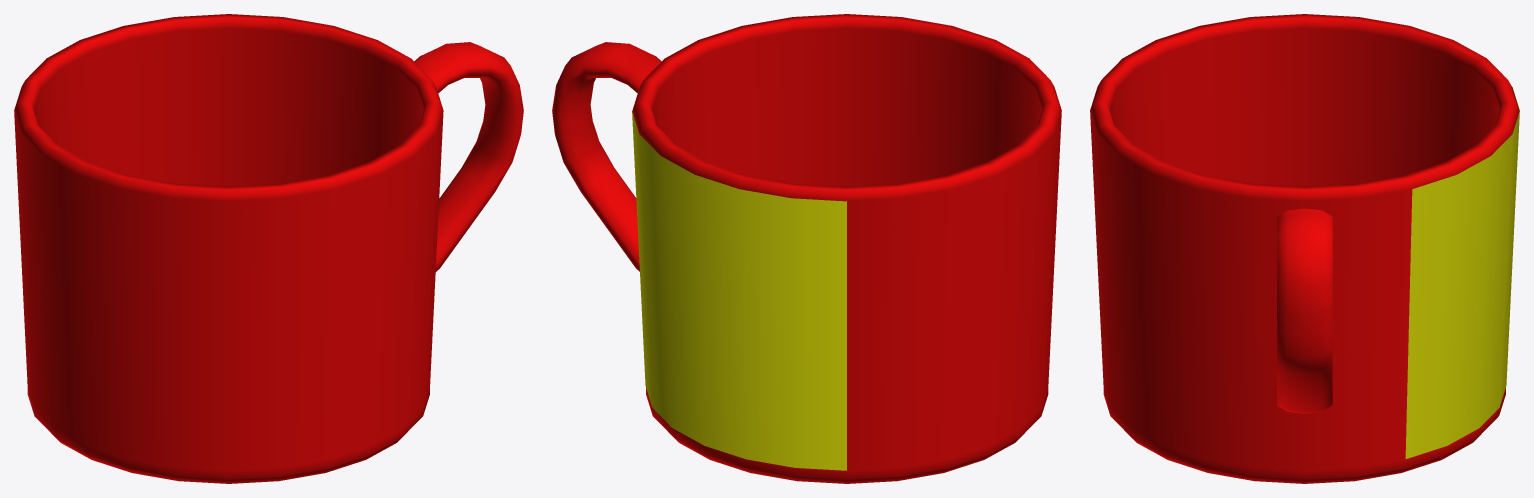
Rendered from thorkea_mugs_grp.fbx.
3 views of the same model, side by side, from view 1: azimuth 30°, elevation 25°; view 2: azimuth 150°, elevation 25°; view 3: azimuth 270°, elevation 25° (orthographic).
Visible parts, largest first — view 1: thorkea_mug_1; view 2: thorkea_mug_1; view 3: thorkea_mug_1.
Boxes of the visible parts, left/top/right/bottom form: thorkea_mug_1: left=14, top=14, right=523, bottom=483; thorkea_mug_1: left=552, top=14, right=1061, bottom=483; thorkea_mug_1: left=1090, top=14, right=1519, bottom=483.
Bounding box in the file's own units: 13.43 × 8.09 × 10.53.
